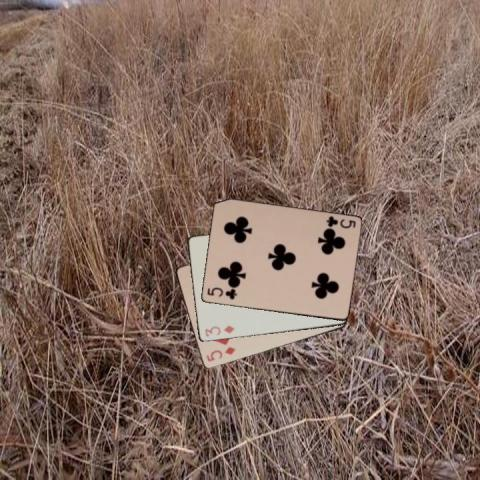3d: (202, 323, 235, 338)
5c: (323, 213, 357, 230), (204, 285, 238, 301)
5d: (203, 344, 237, 363)
